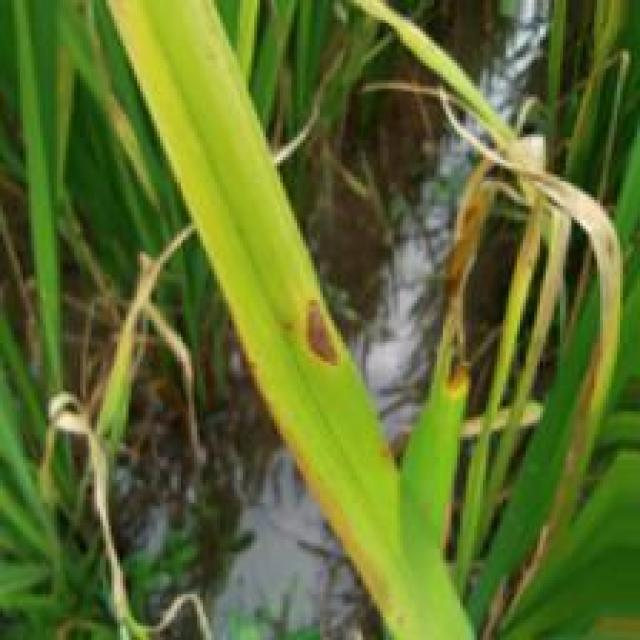Brown_Spot: (438, 182, 485, 399), (304, 299, 337, 370)
